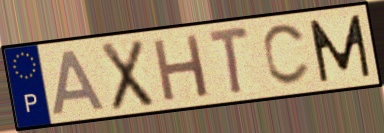A: (50, 47, 110, 118)
C: (260, 21, 312, 88)
H: (150, 31, 212, 105)
M: (306, 12, 374, 85)
T: (205, 23, 252, 99)
X: (99, 37, 157, 114)
